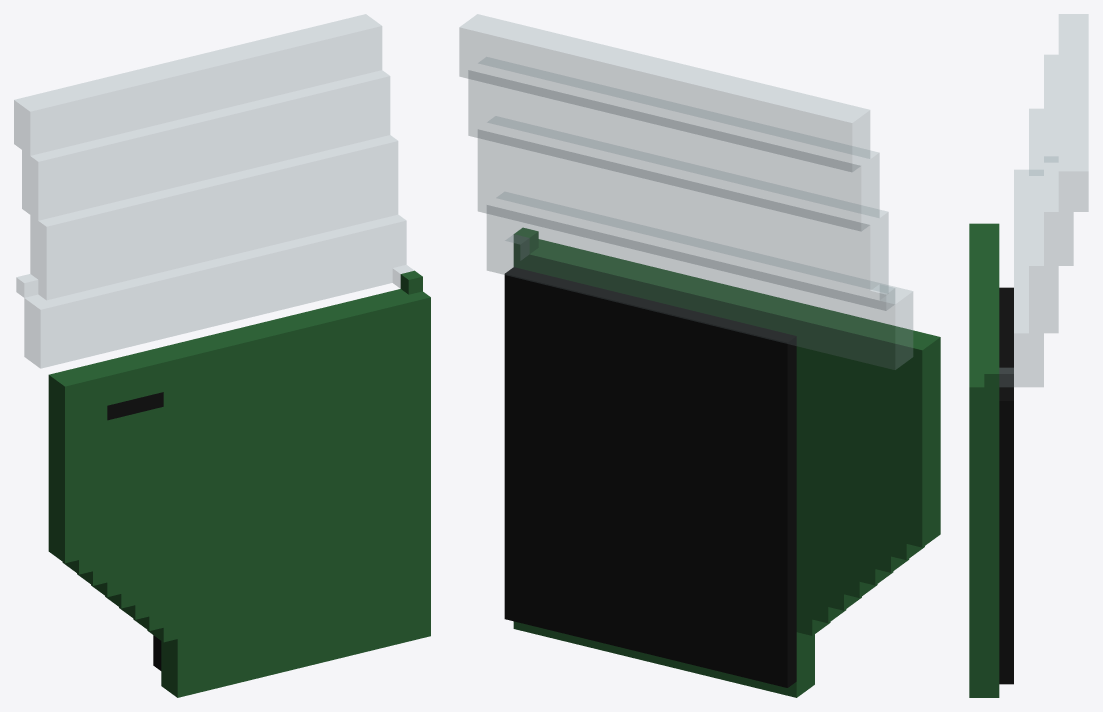
File: suv_rear_door.glb
The picture shows the model from 3 angles, left to right: view 1: azimuth 30°, elevation 25°; view 2: azimuth 150°, elevation 25°; view 3: azimuth 270°, elevation 25°; orthographic projection. The views are drawn at different scales.
Parts seen in each view (by area): view 1: body:compound; view 2: body:compound; view 3: body:compound.
Part boxes in pixels (<box>): body:compound: <box>14,14,430,697</box>; body:compound: <box>459,14,940,697</box>; body:compound: <box>969,14,1088,697</box>.
Bounding box in the file's own units: 0.8125 × 1.22 × 0.25.
